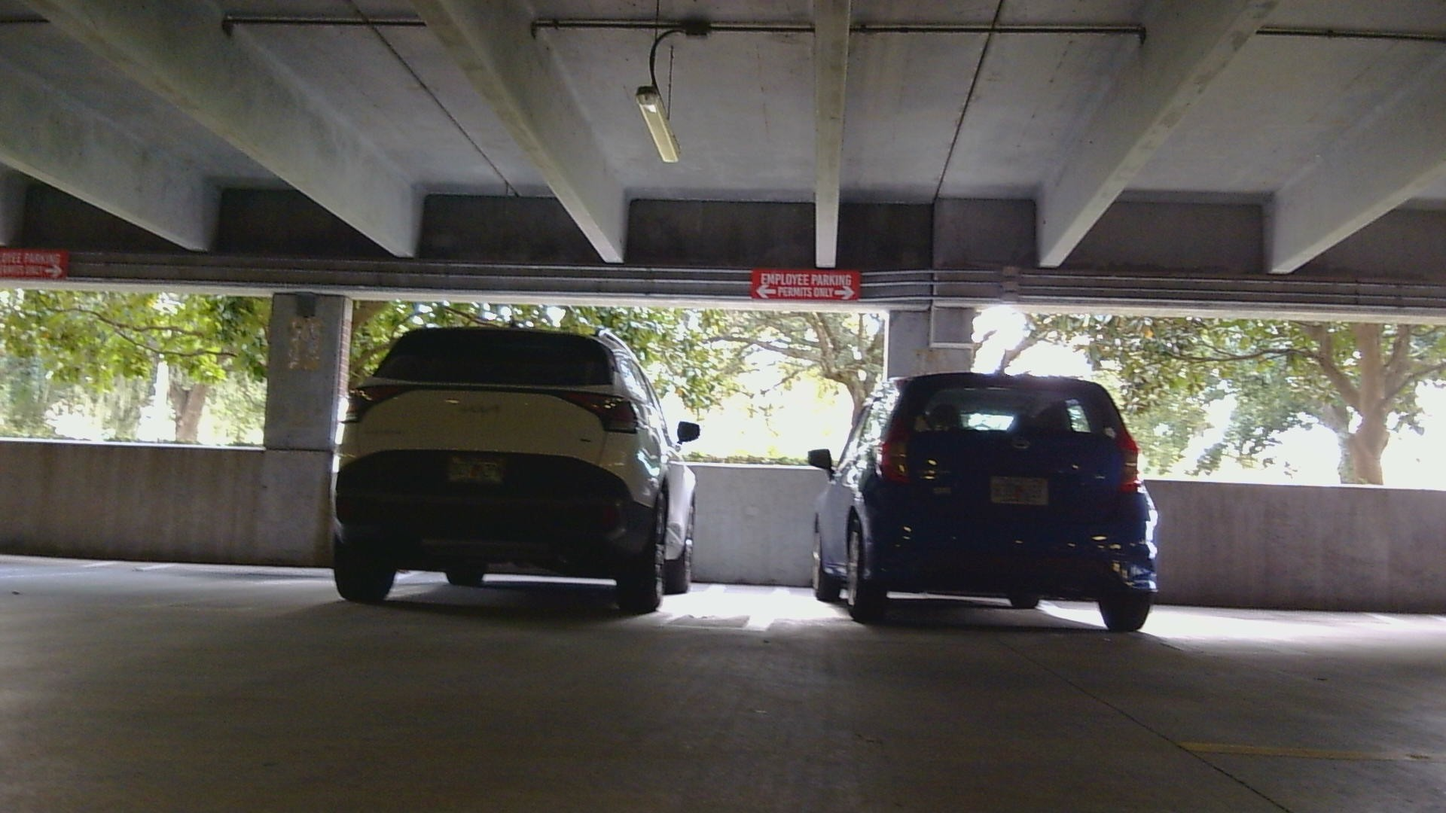empty_spot: (1150, 518, 1446, 650), (0, 497, 333, 606)
occupied_spot: (327, 315, 707, 612), (807, 365, 1175, 633)
